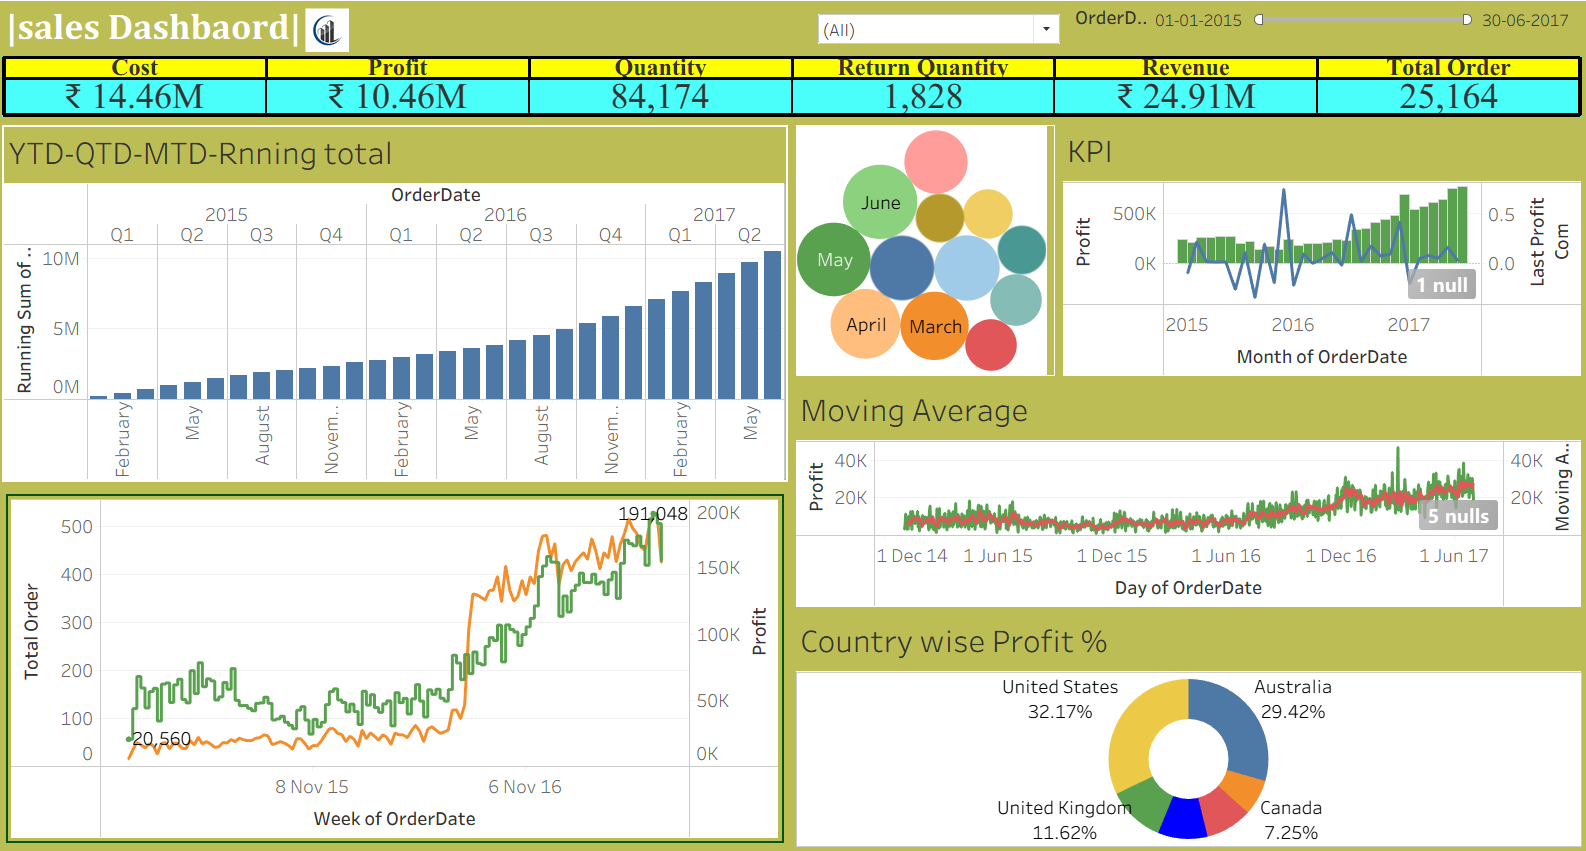

Layout of this report page (visuals, bound fields, positions):
{"tool":"tableau","page":{"name":"Dashboard 1","canvas":[1000,1000],"units":"permille","ordinal":0},"visuals":[{"type":"title","box":[5,9.2,990,58.9]},{"type":"filter","title":"Monthly country Revenue","param":"[federated.00yg6ks1p3sku61dbfizd1hsodvo].[none:OrderDate:qk]","box":[676.5,16.2,314,50.1]},{"type":"image","param":"Image/pngtree-building-and-construction-vector-illustration-element-logo-design-","box":[193.9,17.3,33,50.8]},{"type":"filter","title":"Monthly country Revenue","param":"[federated.00yg6ks1p3sku61dbfizd1hsodvo].[none:CategoryName:nk]","box":[514.3,23.6,154.8,38.3]},{"type":"worksheet","title":"Card","mark":"Automatic","box":[5,68.1,990,79.3]},{"type":"worksheet","title":"YTD-QTD-MTD-Rnning total","mark":"Bar","cols":["OrderDate","OrderDate","OrderDate"],"box":[5,147.4,494.9,421.7]},{"type":"worksheet","title":"Monthly country Revenue","mark":"Circle","box":[499.9,147.4,166.6,299.2]},{"type":"worksheet","title":"KPI","mark":"Automatic","rows":["Calculation_663717997759844355","Calculation_503277262450171904"],"cols":["OrderDate"],"box":[666.5,147.4,328.6,299.2]},{"type":"worksheet","title":"Moving Average","mark":"Automatic","rows":["Calculation_663717997759844355"],"cols":["OrderDate"],"box":[499.9,446.6,495.1,267.2]},{"type":"worksheet","title":"Weekly order/Profit flow","mark":"Automatic","rows":["Calculation_973340473933398026","Calculation_663717997759844355"],"cols":["OrderDate"],"box":[5,569.1,494.9,421.7]},{"type":"worksheet","title":"Country wise Profit %","mark":"Pie","rows":["Calculation_503277262471745548","Calculation_503277262471745548"],"box":[499.9,713.8,495.1,276.9]}]}

Visuals, with their boxes on the dashboard's canvas, which has no fixed pixel size, in thousandths of its width and height (x1, y1, x2, y2). These are canvas units, not pixel positions in the 1586x851 screenshot, which may show the page scaled, cropped or inside an application window:
title: bbox=(5, 9, 995, 68)
"Monthly country Revenue" filter: bbox=(676, 16, 990, 66)
image: bbox=(194, 17, 227, 68)
"Monthly country Revenue" filter: bbox=(514, 24, 669, 62)
"Card" worksheet: bbox=(5, 68, 995, 147)
"YTD-QTD-MTD-Rnning total" worksheet (Bar marks): bbox=(5, 147, 500, 569)
"Monthly country Revenue" worksheet (Circle marks): bbox=(500, 147, 666, 447)
"KPI" worksheet: bbox=(666, 147, 995, 447)
"Moving Average" worksheet: bbox=(500, 447, 995, 714)
"Weekly order/Profit flow" worksheet: bbox=(5, 569, 500, 991)
"Country wise Profit %" worksheet (Pie marks): bbox=(500, 714, 995, 991)
